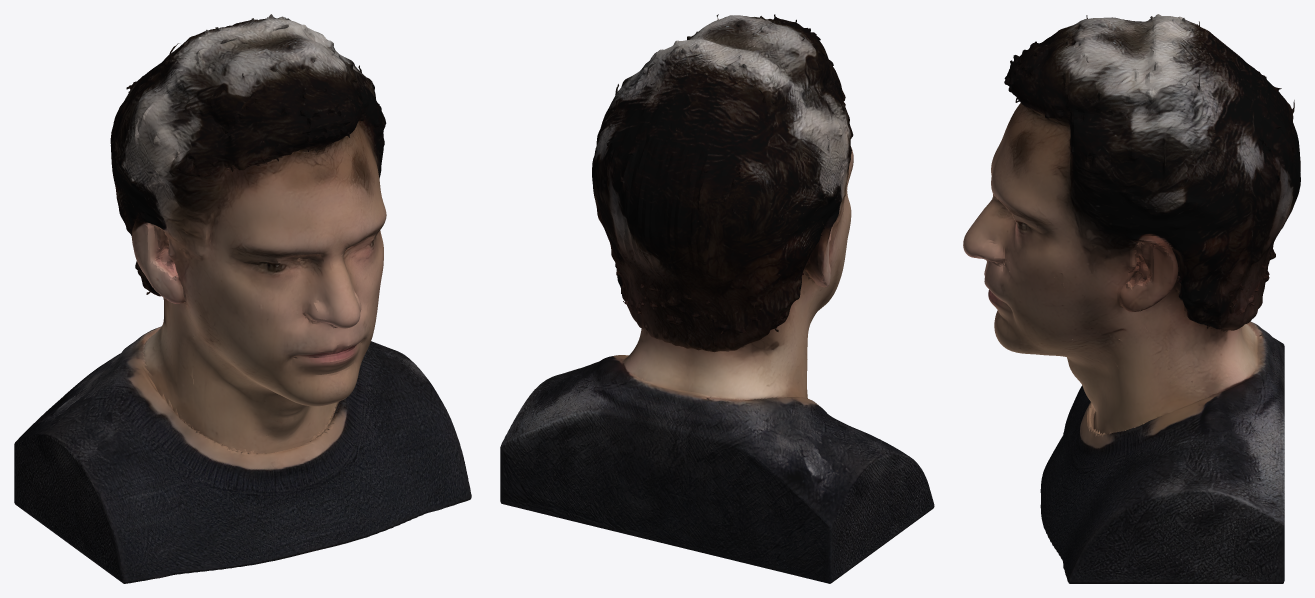
The model's file is rodin_v2_5_minimum_50k_quad_texture_high_pbr.glb.
The picture shows the model from 3 angles, left to right: view 1: azimuth 30°, elevation 25°; view 2: azimuth 150°, elevation 25°; view 3: azimuth 270°, elevation 25°; orthographic projection. The views are drawn at different scales.
Visible parts, largest first — view 1: model; view 2: model; view 3: model.
Boxes of the visible parts, <box> form: model: <box>14,14,471,583</box>; model: <box>500,14,934,583</box>; model: <box>963,14,1300,583</box>.
Bounding box in the file's own units: 1.43 × 1.89 × 1.22.
1 material, 1 textured.
